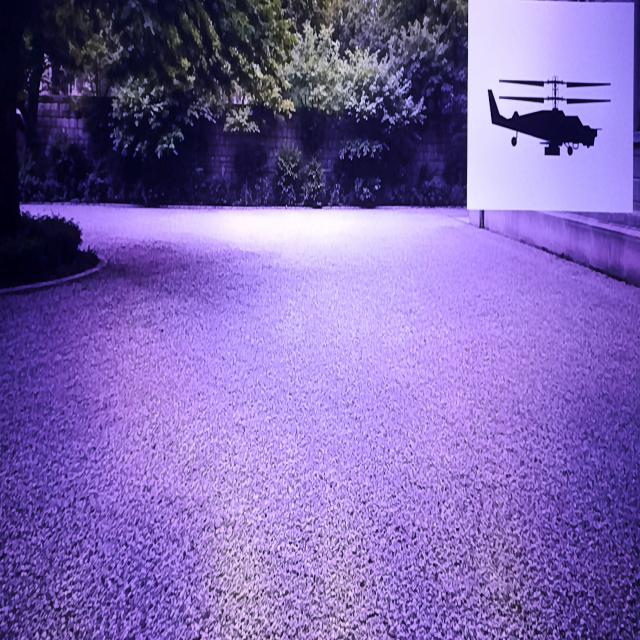Ka-52 Enemy: (489, 77, 610, 155)
